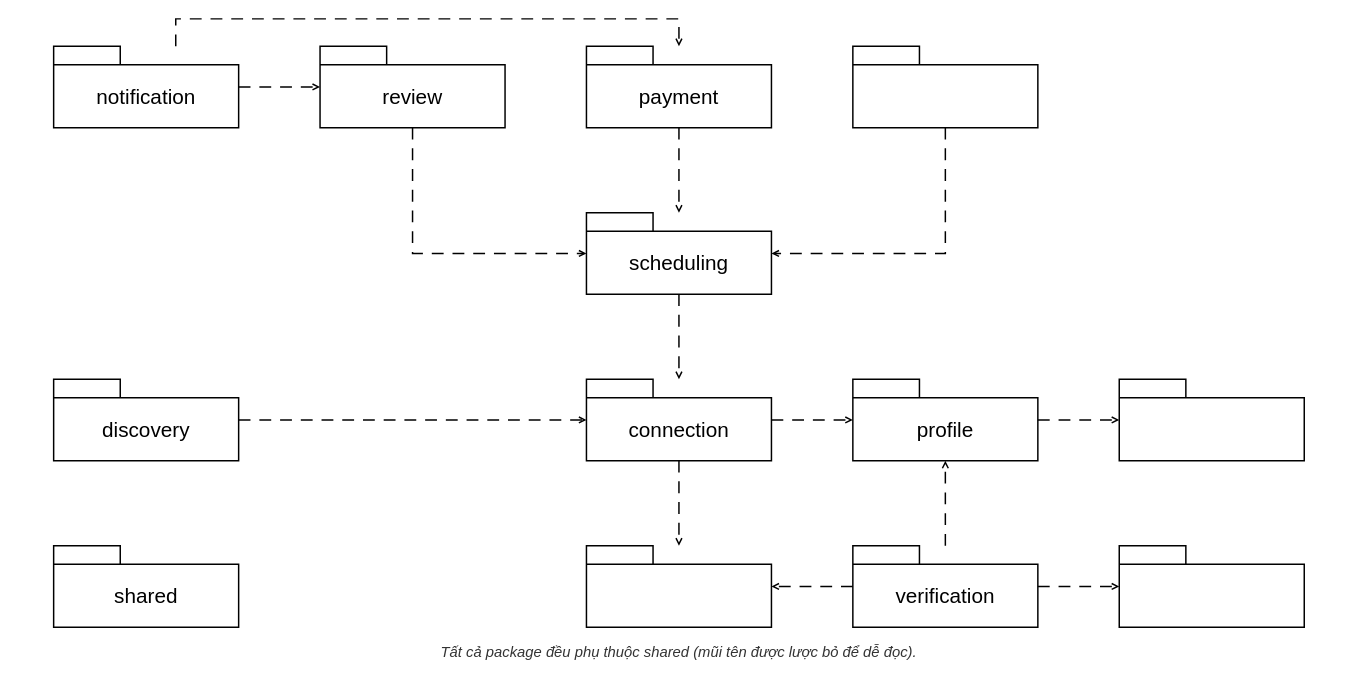
The diagram is 1357 pixels wide and 675 high, and some of its shapes have lost their labels. The shapes that lost their labels are listed below. From the top down, each one's centre as x and y in pixels, then its label:
At (x=945, y=86): "progress".
At (x=1211, y=419): "ai".
At (x=678, y=586): "iam".
At (x=1211, y=586): "storage".
